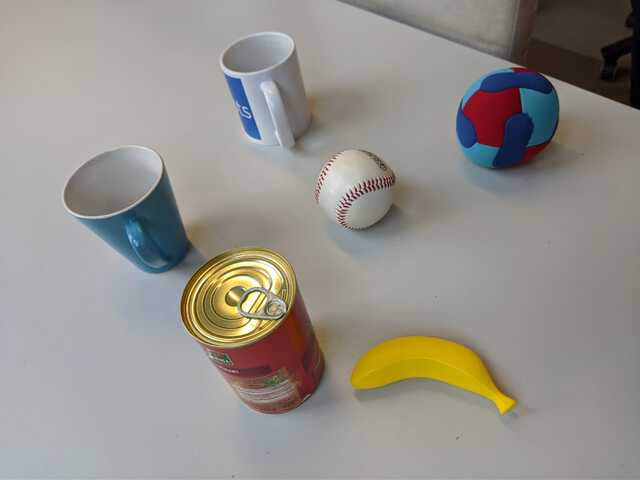005_tomato_soup_can: (180, 248, 331, 416)
011_banana: (345, 334, 521, 417)
025_mug: (61, 146, 191, 272), (218, 32, 312, 149)
055_baseball: (312, 148, 399, 234)
057_racquetball: (456, 67, 561, 170)
